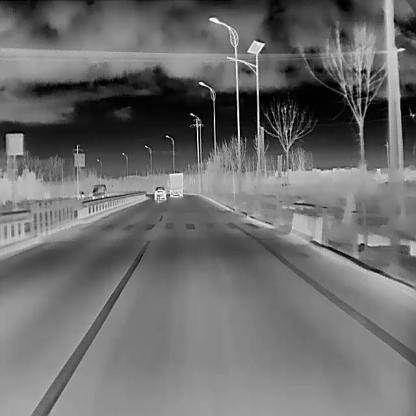car: (168, 173, 183, 198), (91, 184, 107, 201), (153, 186, 166, 200)
